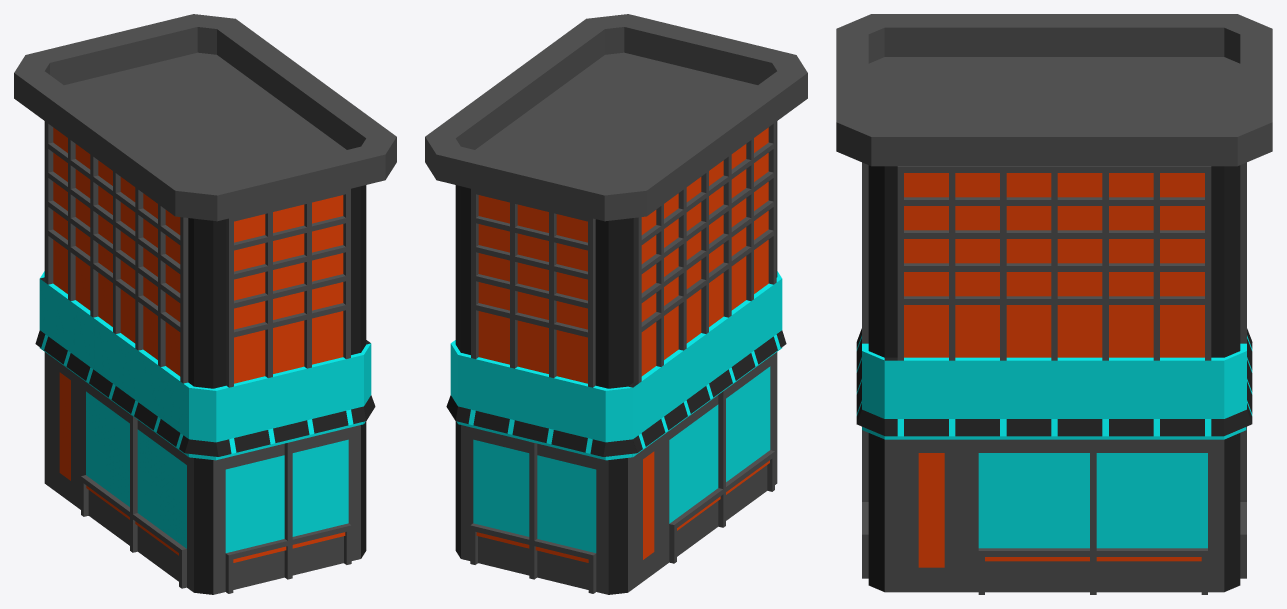
File: Edificio 14.fbx
3 views of the same model, side by side, from view 1: azimuth 30°, elevation 25°; view 2: azimuth 150°, elevation 25°; view 3: azimuth 270°, elevation 25° (orthographic). The views are drawn at different scales.
Parts seen in each view (by area): view 1: [7156], Pared 2 [7242], Pared 1 [7188], Esquina [7481], Esquina [7490]; view 2: [7156], Pared 2 [7239], Pared 1 [7188], Esquina [7484], Esquina [7487]; view 3: Pared 1 [7185], [7156], Pared 2 [7239], Pared 2 [7242], Esquina [7490], Esquina [7487].
Boxes of the visible parts, box(x1,y1,x2,y2) form: [7156]: box(14, 14, 396, 594); Pared 2 [7242]: box(213, 186, 366, 594); Pared 1 [7188]: box(35, 121, 193, 592); Esquina [7481]: box(185, 386, 218, 460); Esquina [7490]: box(361, 343, 375, 423); [7156]: box(425, 14, 807, 594); Pared 2 [7239]: box(455, 186, 608, 594); Pared 1 [7188]: box(628, 121, 786, 592); Esquina [7484]: box(603, 386, 636, 460); Esquina [7487]: box(446, 343, 460, 423); Pared 1 [7185]: box(884, 166, 1224, 594); [7156]: box(836, 14, 1272, 591); Pared 2 [7239]: box(1240, 162, 1252, 578); Pared 2 [7242]: box(856, 162, 868, 578); Esquina [7490]: box(856, 351, 884, 439); Esquina [7487]: box(1224, 351, 1251, 439).
Bounding box in the file's own units: 354 × 531 × 630.
